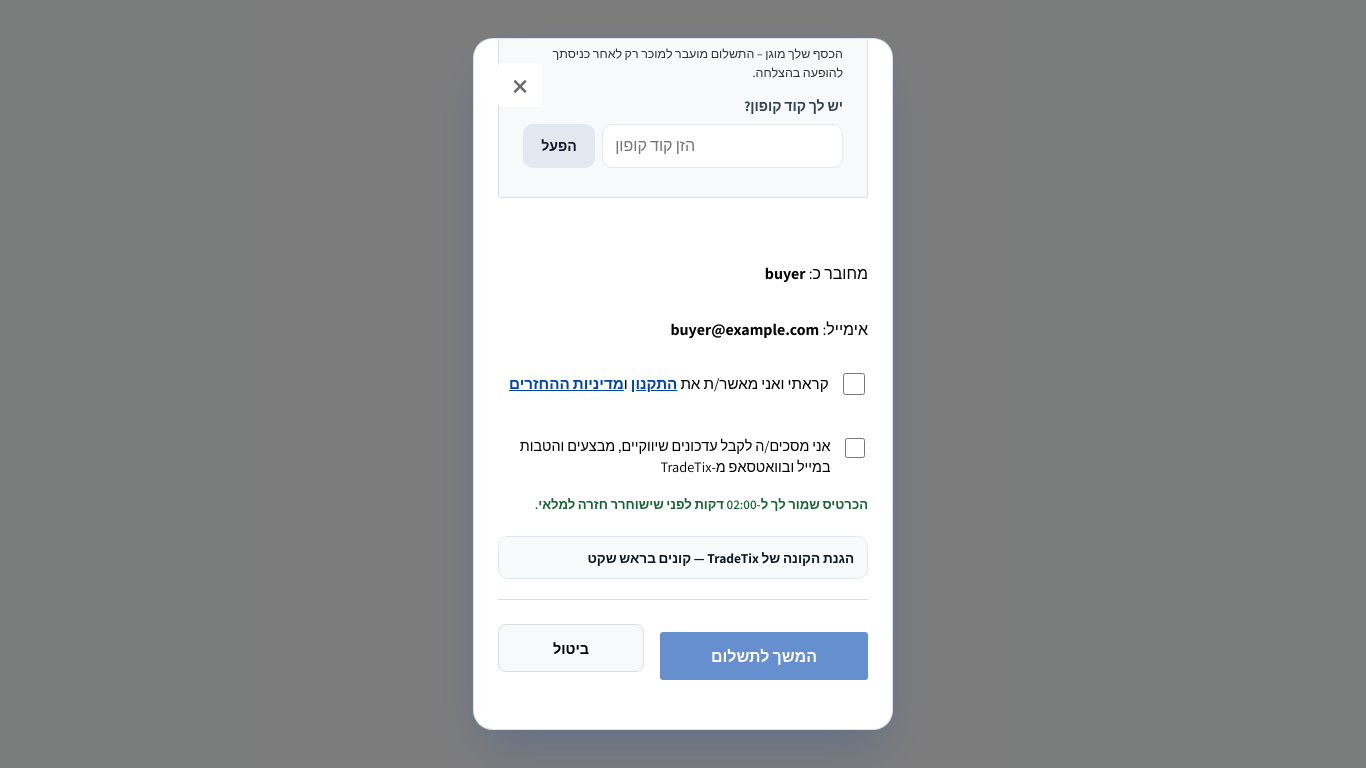
it: CheckoutModal PayMe waiting room › opens PayMe in a new tab and keeps a waiting screen with cancel
(page scrolled)
Click the checkbox labelled "קראתי ואני מאשר/ת את התקנון ו מדיניות ההחזרים" at (854, 384), box [843,373,865,395]
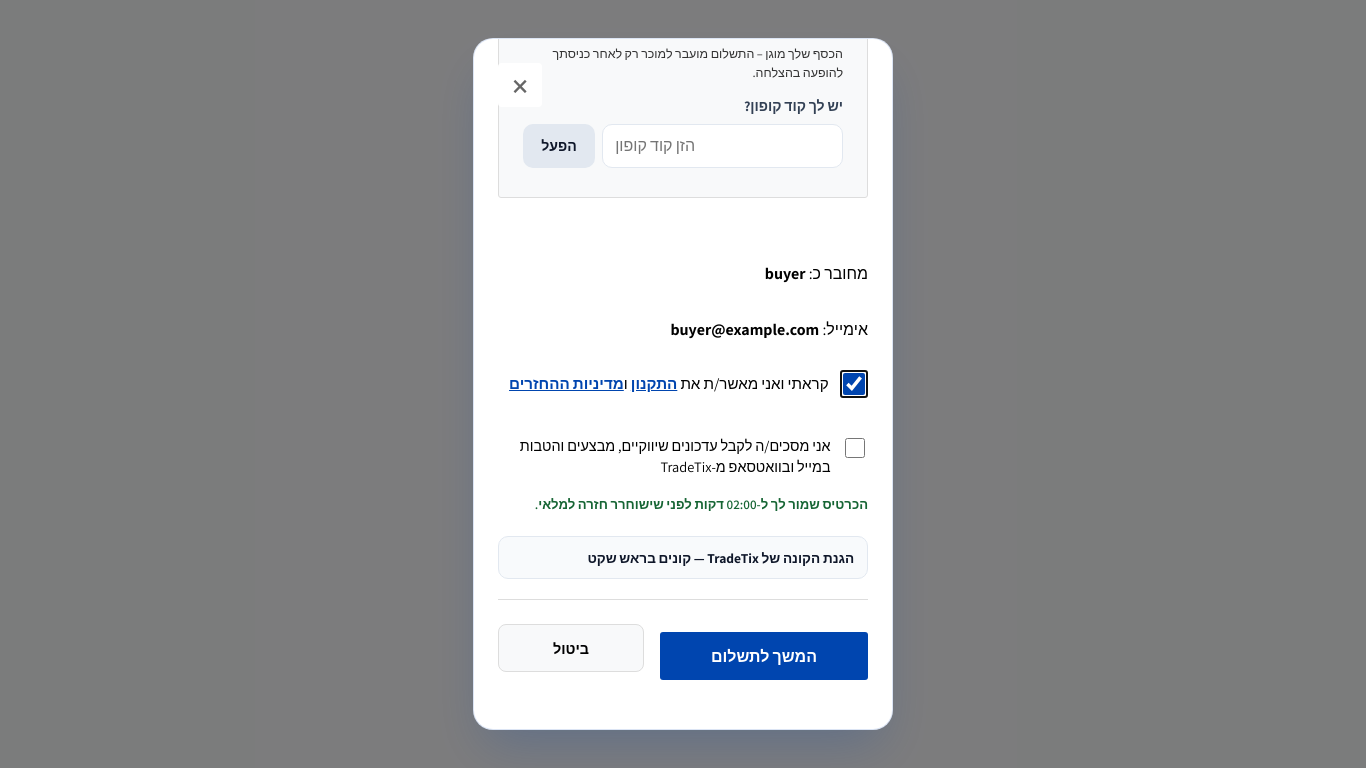
Expected: the button "המשך לתשלום" is enabled
Click the button "המשך לתשלום" at (764, 657), box [660,633,868,681]
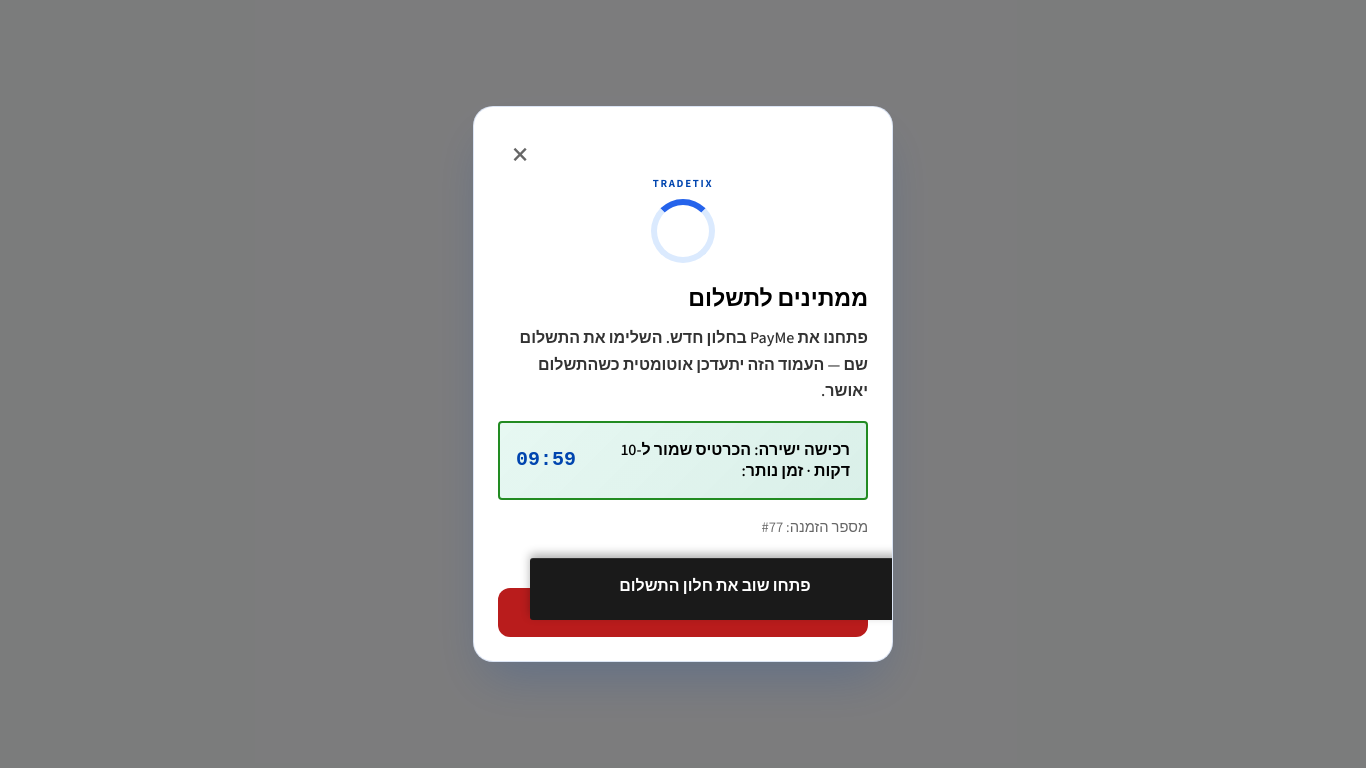
Expected: the heading "ממתינים לתשלום" is shown, [688,282,868,313]
Expected: the button "ביטול ושחרור כרטיס" is shown, [498,588,868,637]
